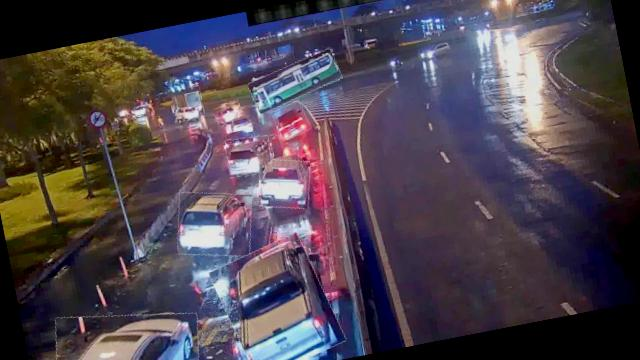Bus: (245, 52, 344, 110)
Car: (211, 233, 343, 360), (47, 296, 208, 360), (170, 183, 260, 265), (252, 152, 316, 214), (223, 134, 273, 180), (272, 100, 310, 140), (225, 111, 257, 137), (213, 99, 244, 125), (175, 100, 202, 122)
Truck: (170, 85, 204, 119)
